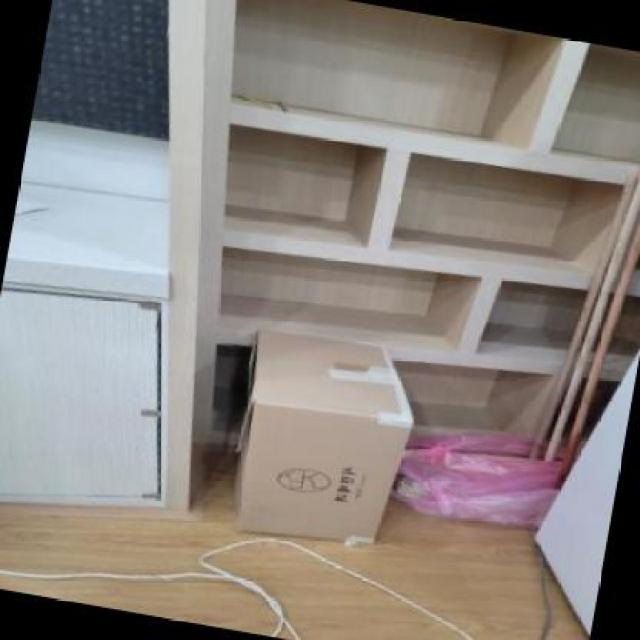box: (197, 306, 438, 572)
